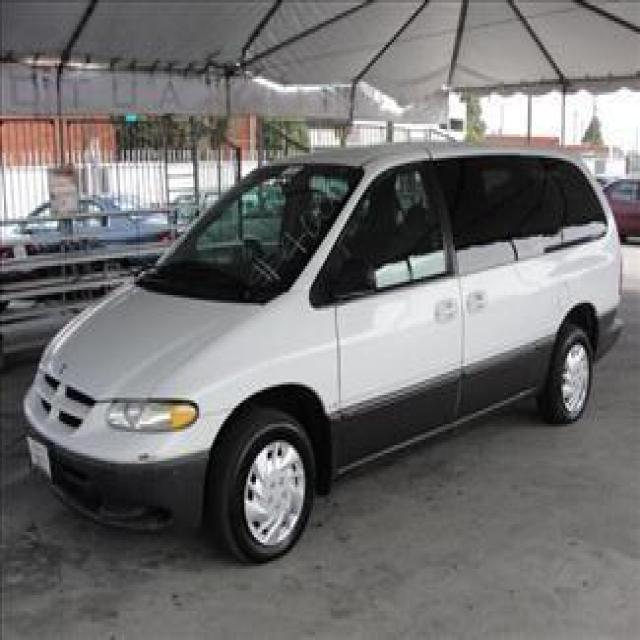Car: (12, 124, 622, 548)
